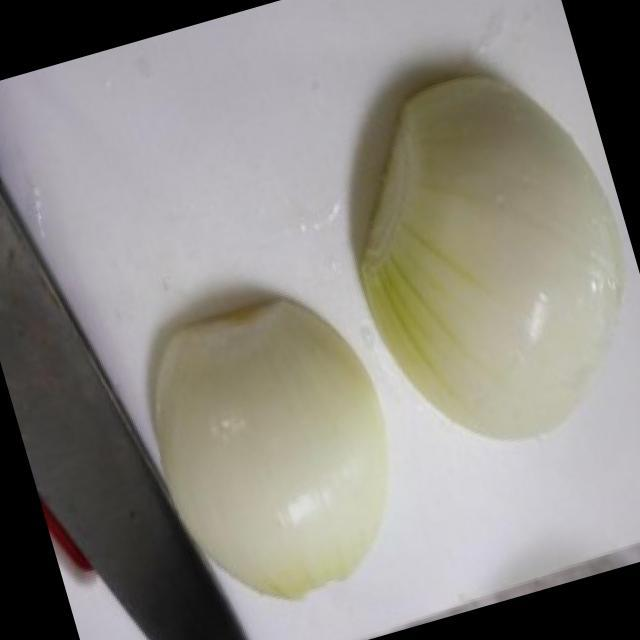Onion: (360, 73, 626, 439), (153, 295, 383, 593)
